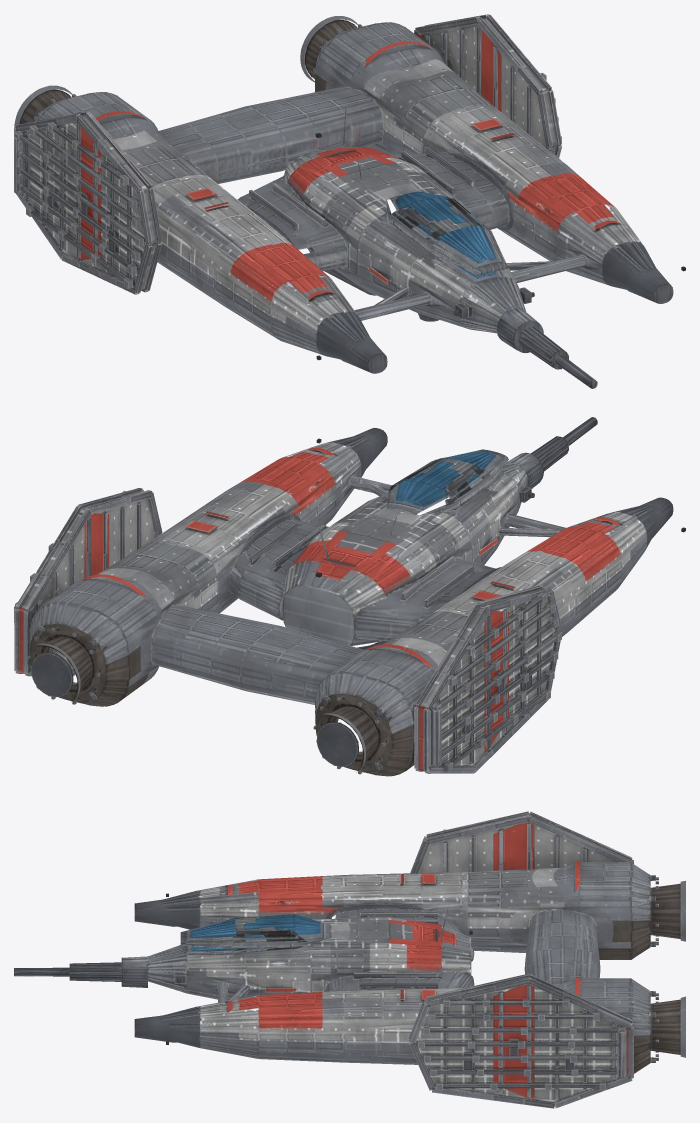
File: sd_ship_sahin_std.glb
3 views of the same model, one above another, from view 1: azimuth 30°, elevation 25°; view 2: azimuth 150°, elevation 25°; view 3: azimuth 270°, elevation 25° (orthographic). The views are drawn at different scales.
Visible parts, largest first — view 1: LOD0_body, LOD1_body; view 2: LOD0_body, LOD1_body; view 3: LOD0_body, LOD1_body.
Part boxes in pixels (bbox=[...]): LOD0_body: bbox=[14, 14, 685, 388]; LOD1_body: bbox=[14, 14, 672, 388]; LOD0_body: bbox=[14, 417, 685, 776]; LOD1_body: bbox=[14, 417, 672, 776]; LOD0_body: bbox=[14, 811, 685, 1108]; LOD1_body: bbox=[14, 812, 685, 1108].
Bounding box in the file's own units: 0.6098 × 0.2132 × 1.
1 material, 1 textured.
